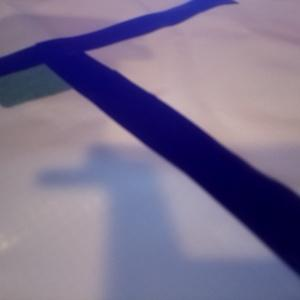bottom_left: (1, 57, 94, 106)
